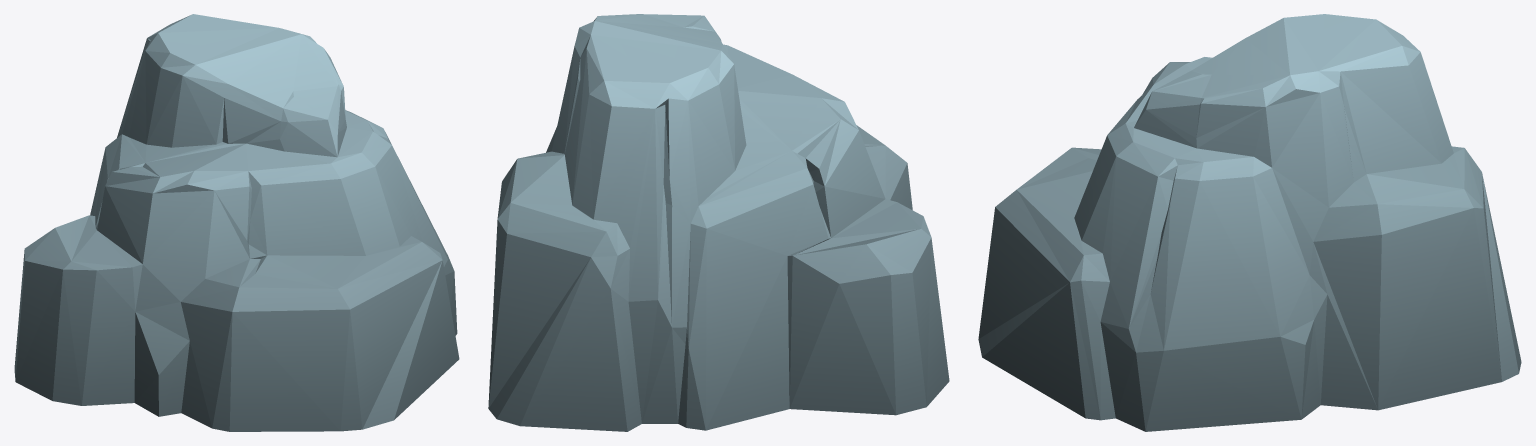
File: stone large gray blue 6.fbx
3 views of the same model, side by side, from view 1: azimuth 30°, elevation 25°; view 2: azimuth 150°, elevation 25°; view 3: azimuth 270°, elevation 25° (orthographic). The views are drawn at different scales.
Parts seen in each view (by area): view 1: stone large gray blue 6; view 2: stone large gray blue 6; view 3: stone large gray blue 6.
Boxes of the visible parts, <box> form: stone large gray blue 6: <box>14,14,459,431</box>; stone large gray blue 6: <box>488,14,949,431</box>; stone large gray blue 6: <box>978,14,1521,431</box>.
Size of the model in its own units: 1153 by 793 by 1272.
